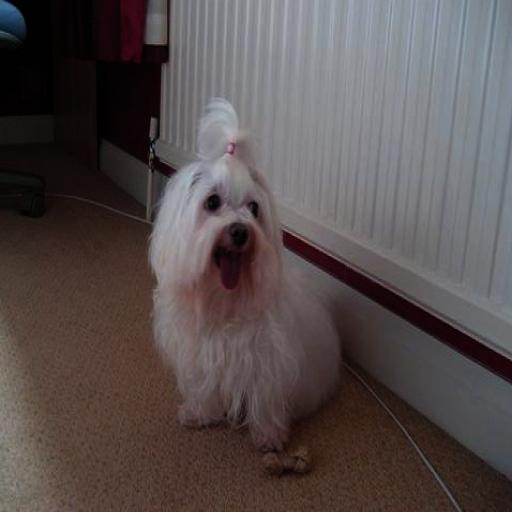dog_face: (153, 131, 280, 307)
